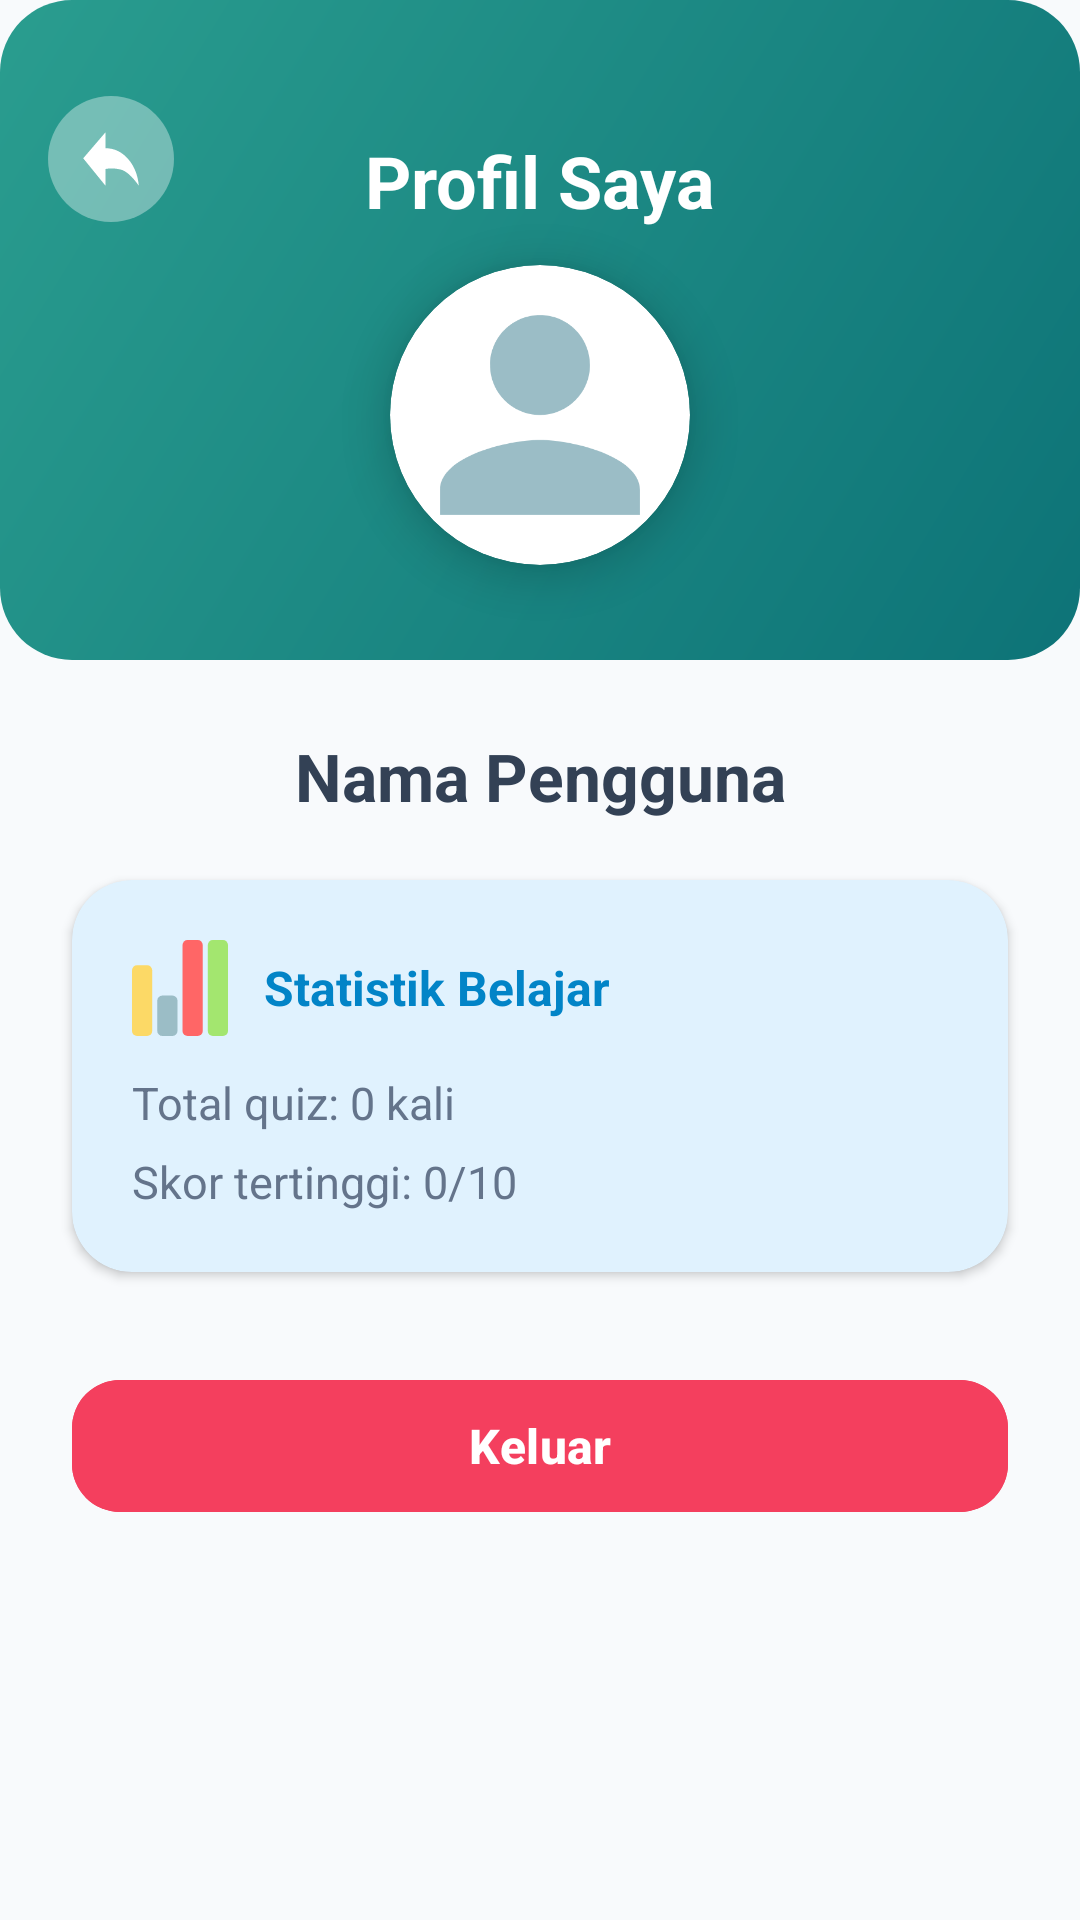

Point at icon controls on the screen. Image size 1080 x 1920, points as (x=x, y=y).
back: (x=111, y=159)
User Photo: (x=540, y=415)
